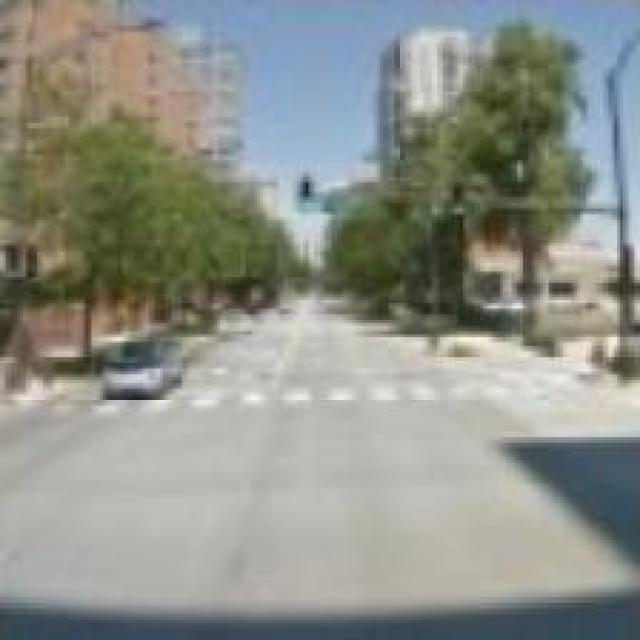walk-crossing: (0, 379, 612, 420)
